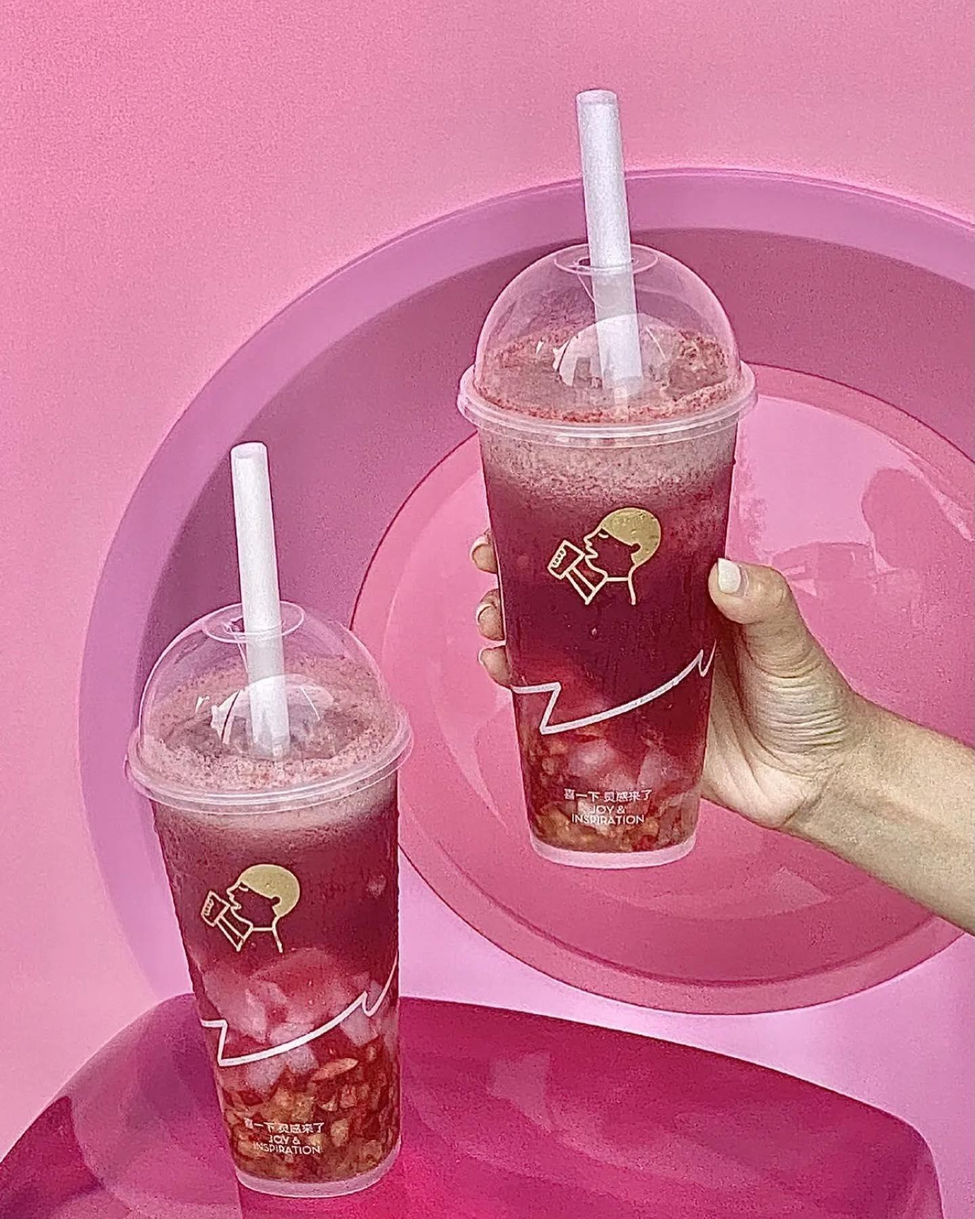cup-disposable: (448, 233, 767, 883), (132, 601, 437, 1192)
